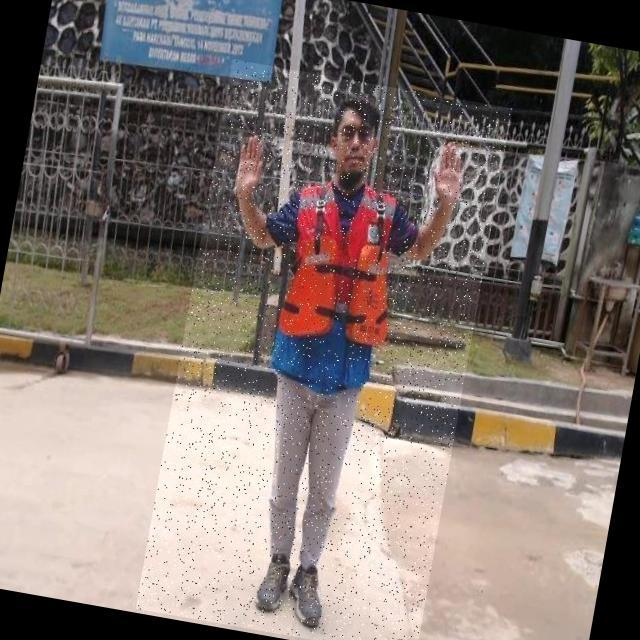Person: (213, 79, 474, 640)
Safety Boot: (282, 560, 332, 634), (252, 549, 294, 618)
Safety Vest: (266, 175, 412, 394)
bare-arms: (229, 128, 271, 199), (432, 139, 469, 213)
no-helmet: (330, 99, 383, 133)
